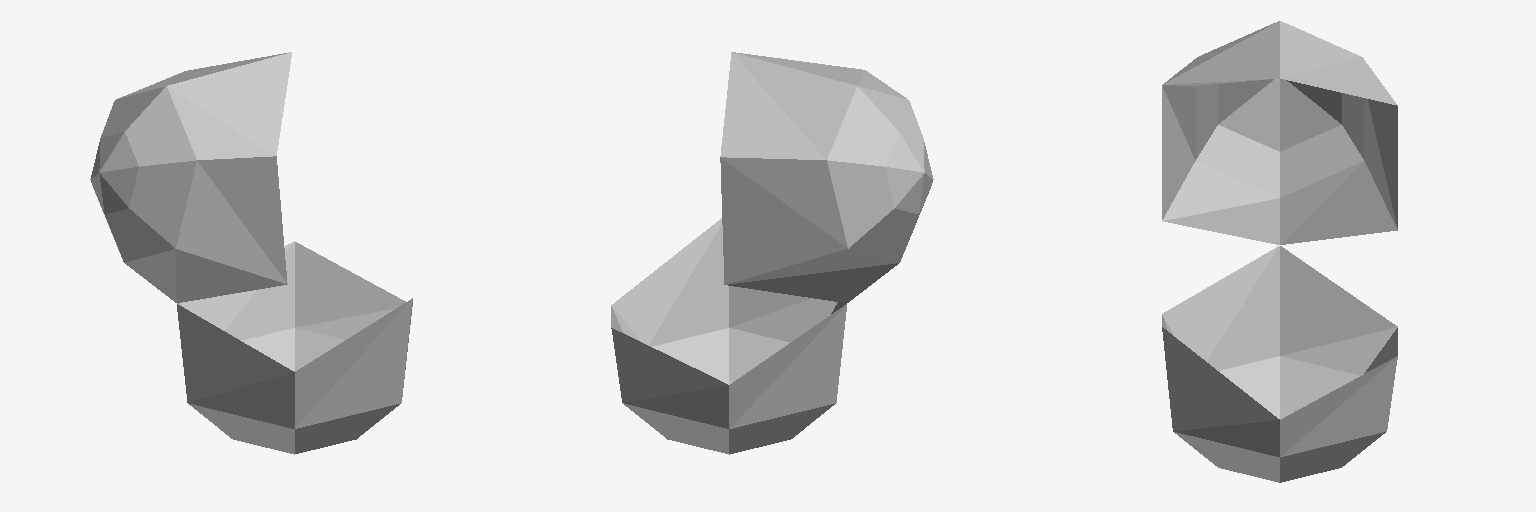
File: eggShell.obj
The picture shows the model from 3 angles: view 1: azimuth 30°, elevation 25°; view 2: azimuth 150°, elevation 25°; view 3: azimuth 270°, elevation 25°; orthographic projection.
Visible parts, largest first — view 1: egg_geo1, egg_geo2; view 2: egg_geo1, egg_geo2; view 3: egg_geo1, egg_geo2.
Part boxes in pixels (left/top/right/bottom): egg_geo1: left=90, top=52, right=291, bottom=302; egg_geo2: left=177, top=241, right=412, bottom=454; egg_geo1: left=720, top=52, right=933, bottom=302; egg_geo2: left=611, top=218, right=846, bottom=454; egg_geo1: left=1162, top=21, right=1397, bottom=244; egg_geo2: left=1162, top=246, right=1397, bottom=482.
Bounding box in the file's own units: 2.53 × 3.02 × 1.65.